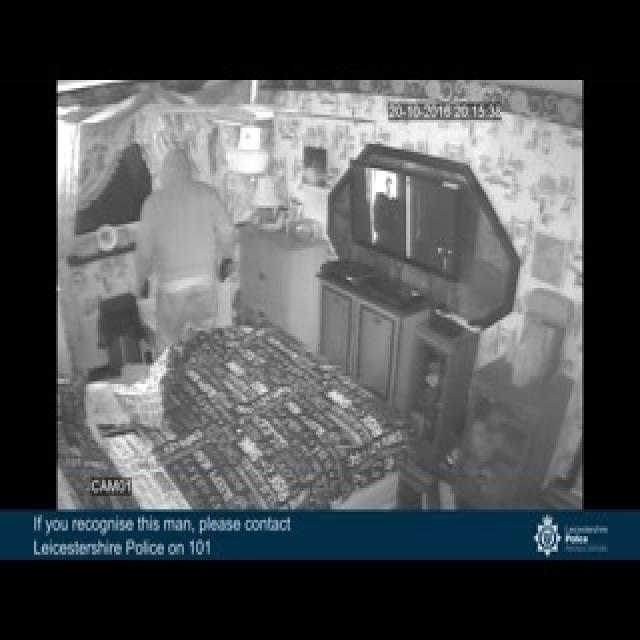thief: (141, 142, 232, 343)
